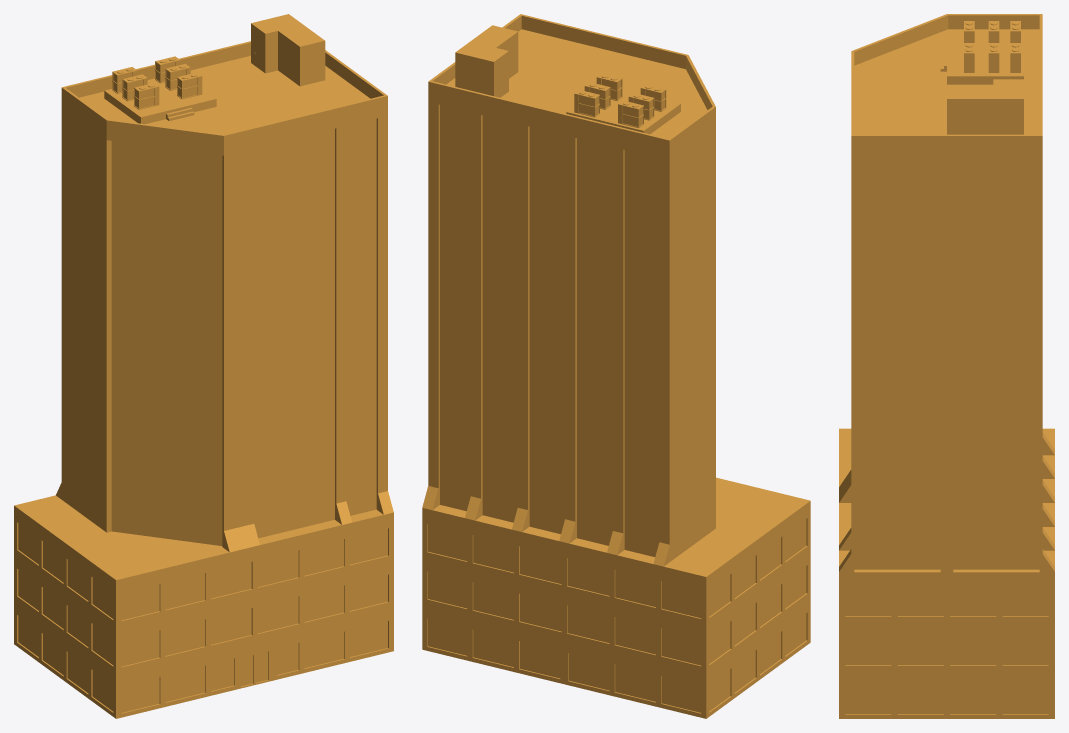
File: building-office.fbx
3 views of the same model, side by side, from view 1: azimuth 30°, elevation 25°; view 2: azimuth 150°, elevation 25°; view 3: azimuth 270°, elevation 25° (orthographic). The views are drawn at different scales.
Parts seen in each view (by area): view 1: building-office; view 2: building-office; view 3: building-office.
Part boxes in pixels (x1,y1,x2,y2): building-office: [14, 14, 393, 718]; building-office: [422, 14, 810, 718]; building-office: [839, 14, 1054, 718].
Size of the model in its own units: 22 by 43.7 by 14.
